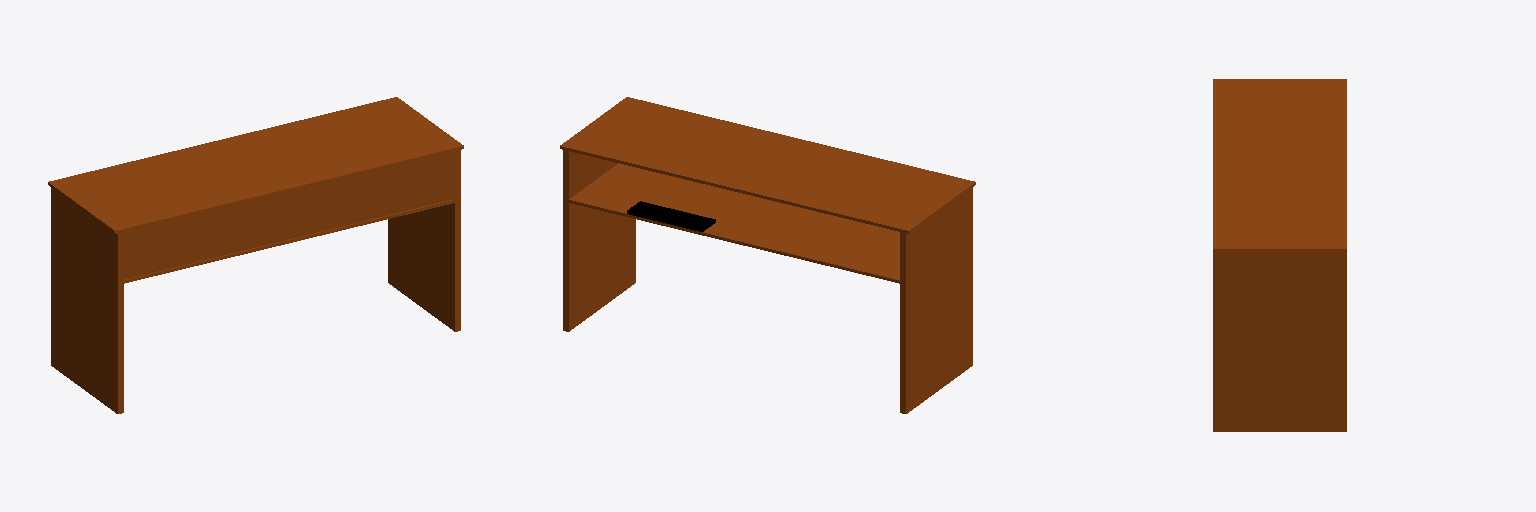
File: banlamviec.obj
3 views of the same model, side by side, from view 1: azimuth 30°, elevation 25°; view 2: azimuth 150°, elevation 25°; view 3: azimuth 270°, elevation 25° (orthographic).
Visible parts, largest first — view 1: obj1, obj2, obj4, obj5, obj3; view 2: obj1, obj3, obj4, obj5, obj6; view 3: obj5, obj1.
Part boxes in pixels (x1,y1,x2,y2): obj1: (48,97,463,233); obj2: (124,151,454,279); obj4: (51,188,123,413); obj5: (388,150,460,331); obj3: (121,199,456,283); obj1: (560,97,975,233); obj3: (567,163,902,283); obj4: (900,188,972,413); obj5: (563,150,635,331); obj6: (627,201,715,231); obj5: (1213,252,1346,431); obj1: (1213,79,1346,251).
Bounding box in the file's own units: 6 × 3.02 × 2.